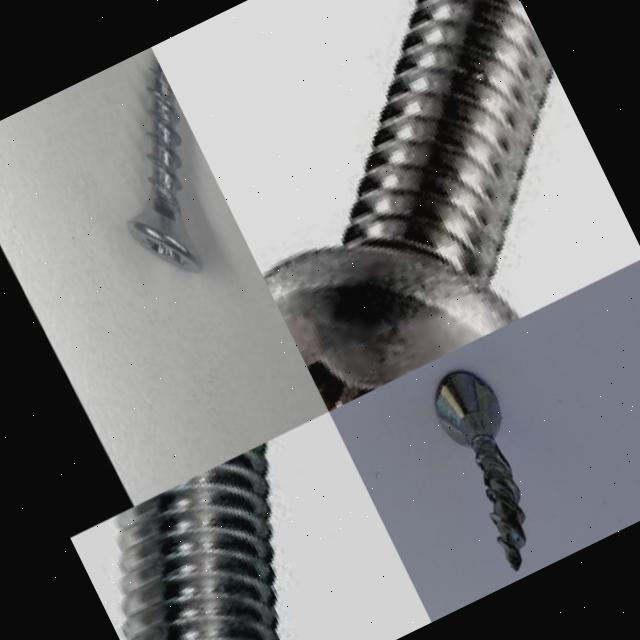Screw: (261, 0, 555, 411), (112, 441, 279, 640), (436, 372, 526, 571), (127, 61, 203, 273)
